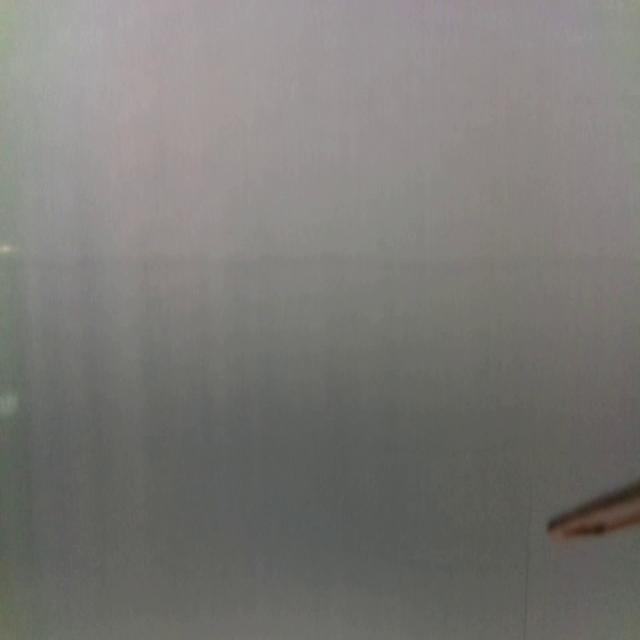color bleeding: (1, 235, 640, 286)
